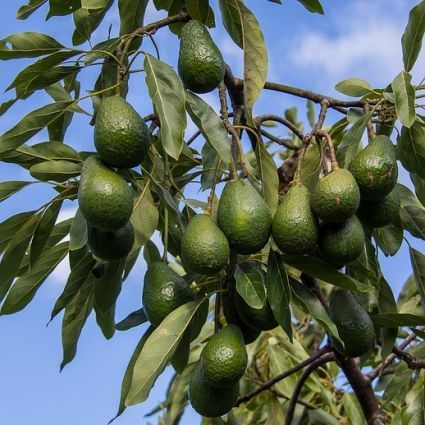unfit_avocado: (77, 92, 157, 169), (213, 178, 276, 247), (172, 15, 227, 94), (199, 321, 250, 390), (178, 211, 233, 274), (275, 176, 321, 247)
